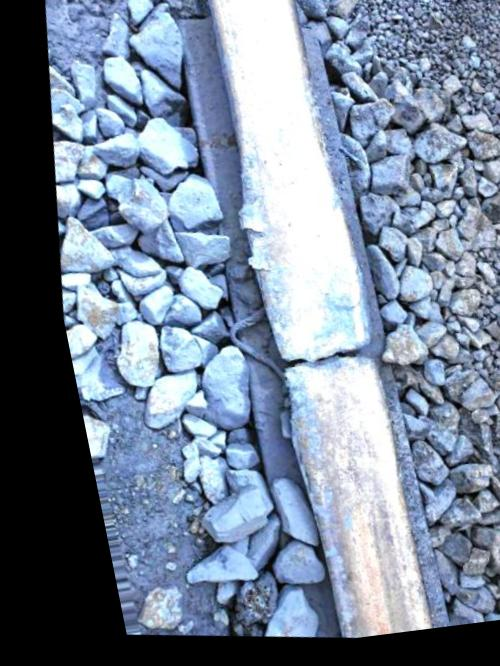person: (191, 255, 424, 476)
